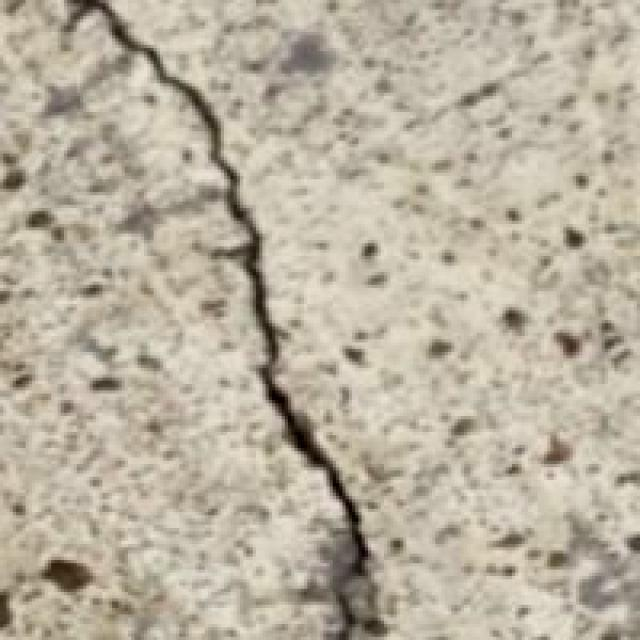crack: (76, 0, 400, 640)
